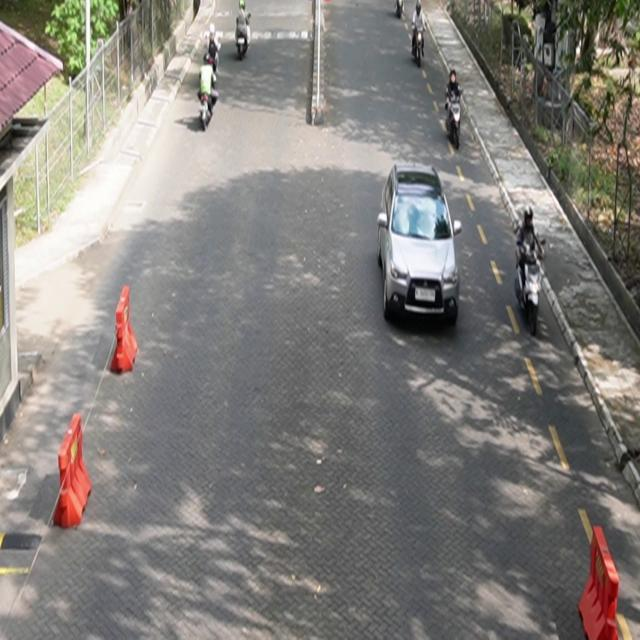car: (377, 162, 463, 328)
